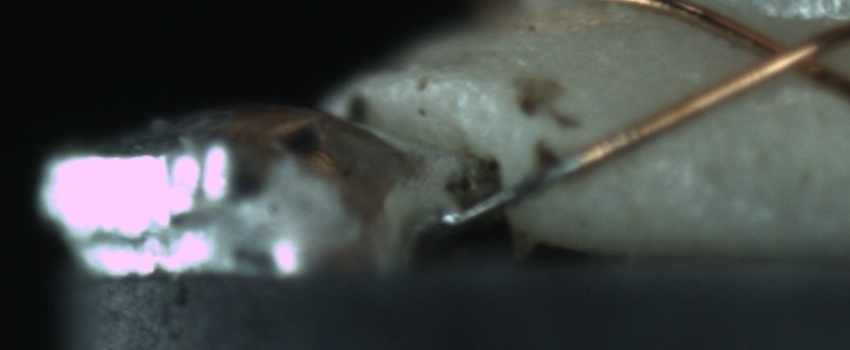CL: (733, 19, 847, 91)
TS: (441, 154, 585, 228)
